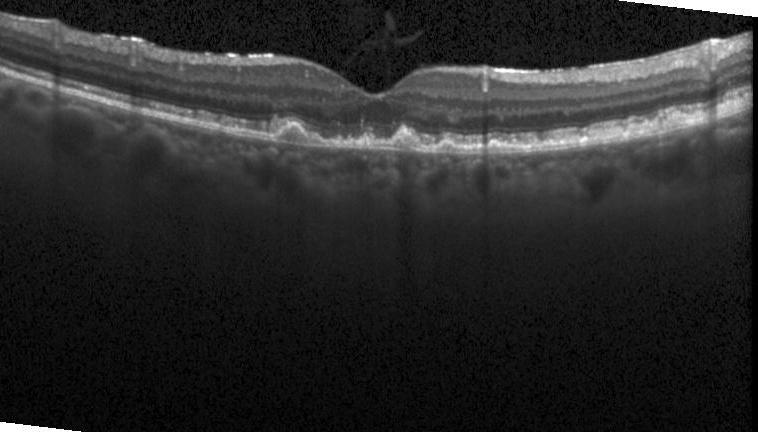retinal_drusen: (276, 125, 327, 146), (390, 127, 424, 150), (327, 134, 356, 148), (355, 131, 376, 150), (434, 141, 456, 152), (486, 141, 502, 152)
